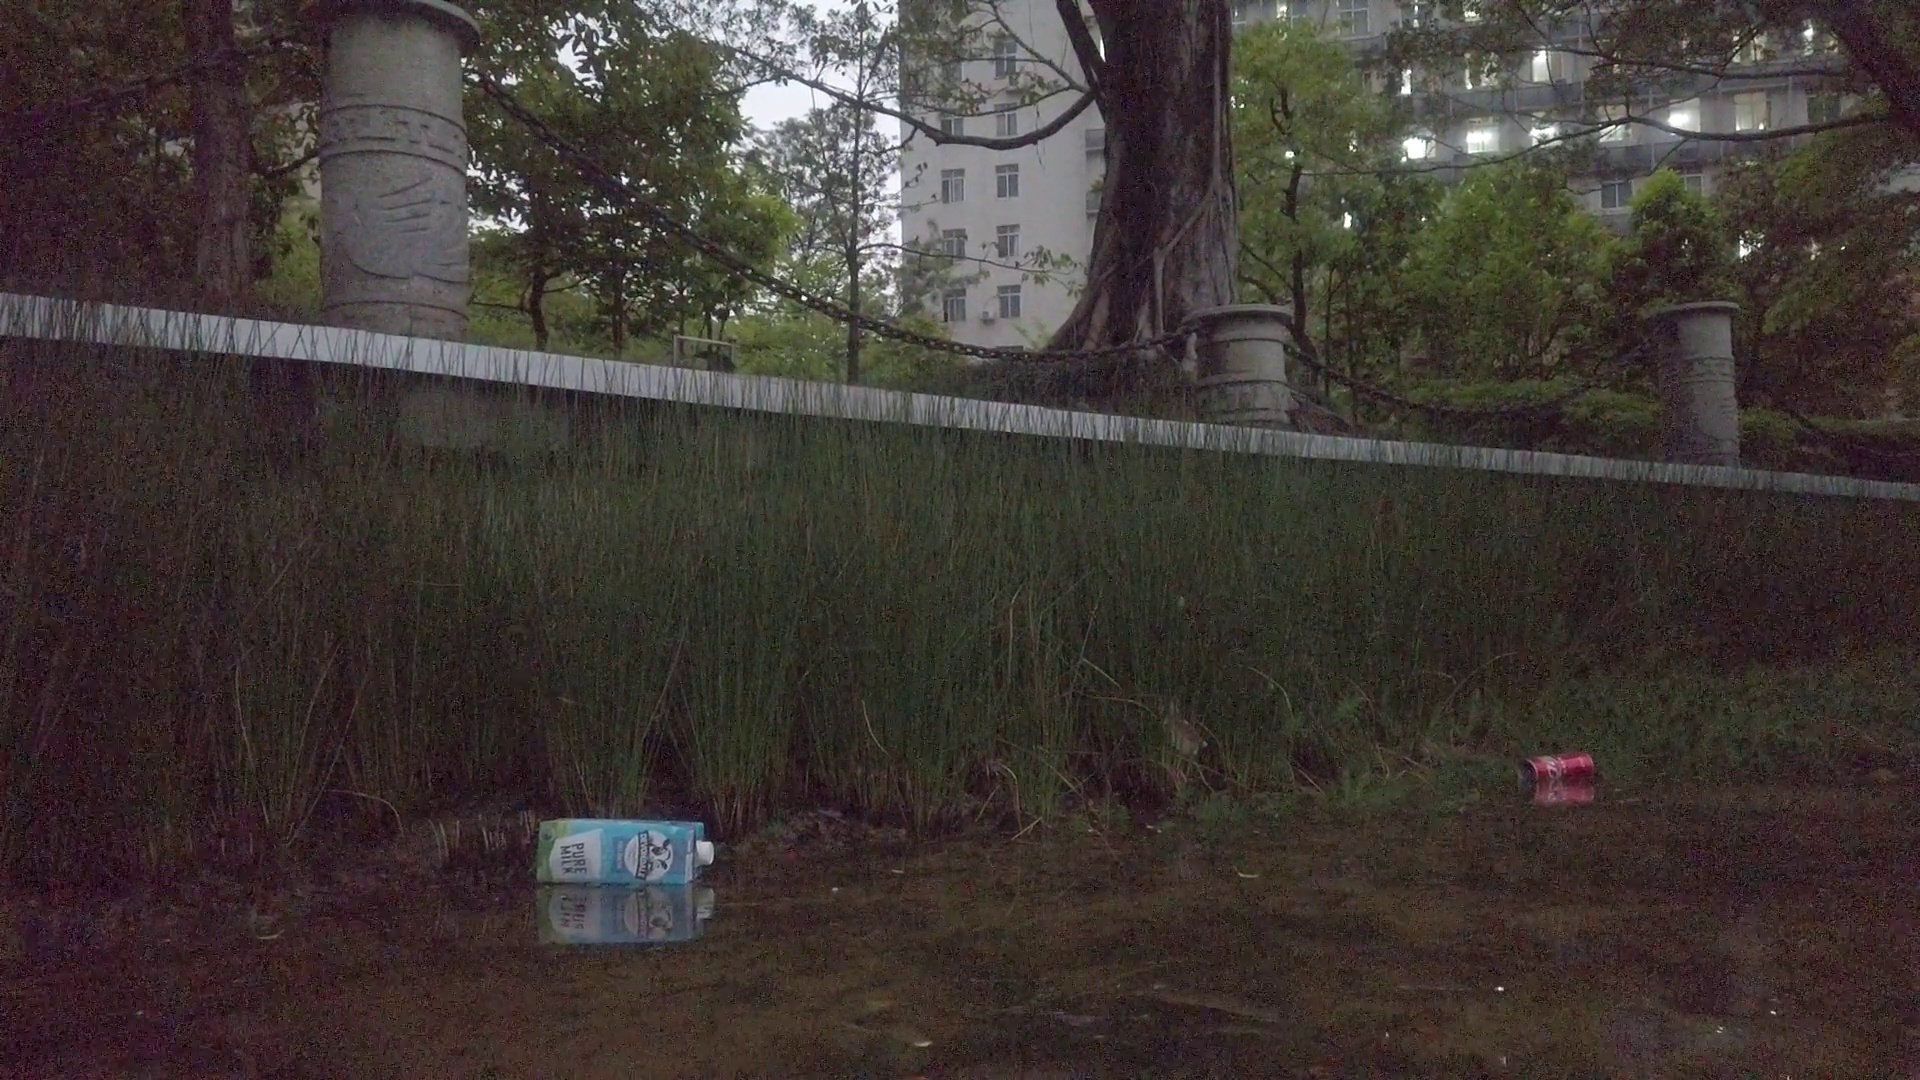carton: (535, 816, 717, 884), (1515, 752, 1596, 785)
